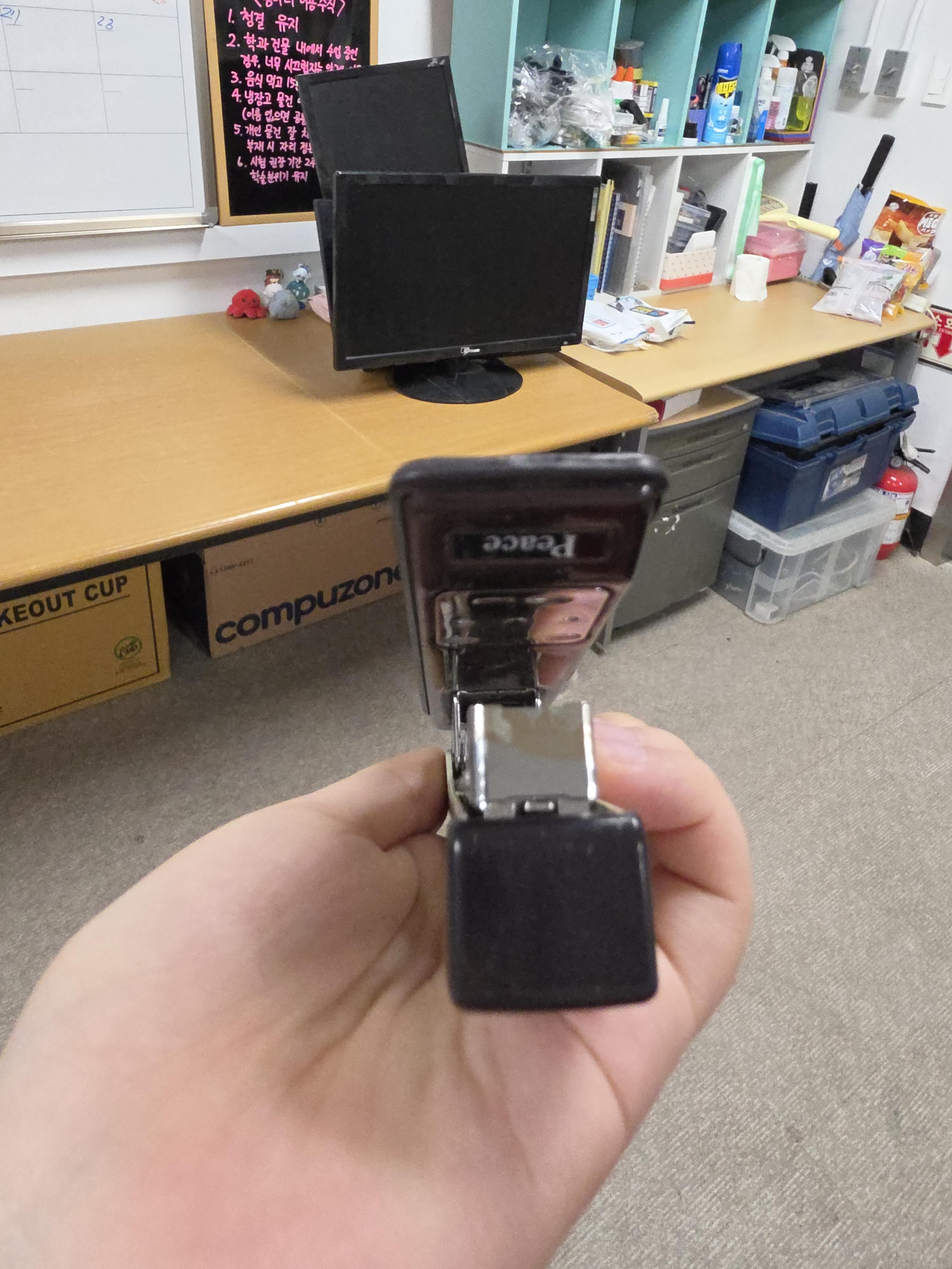stapler: (387, 452, 668, 1011)
tissue: (659, 230, 718, 292), (730, 254, 771, 302)
